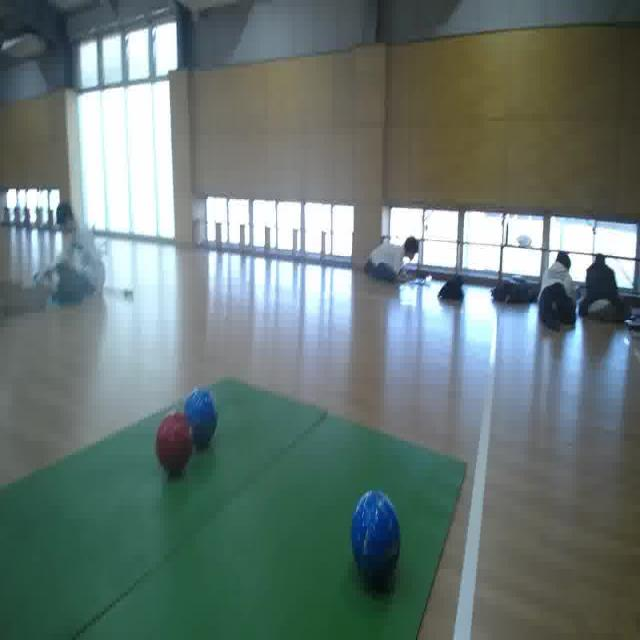blue_ball: (349, 483, 405, 590), (183, 382, 220, 456)
red_ball: (151, 402, 198, 480)
